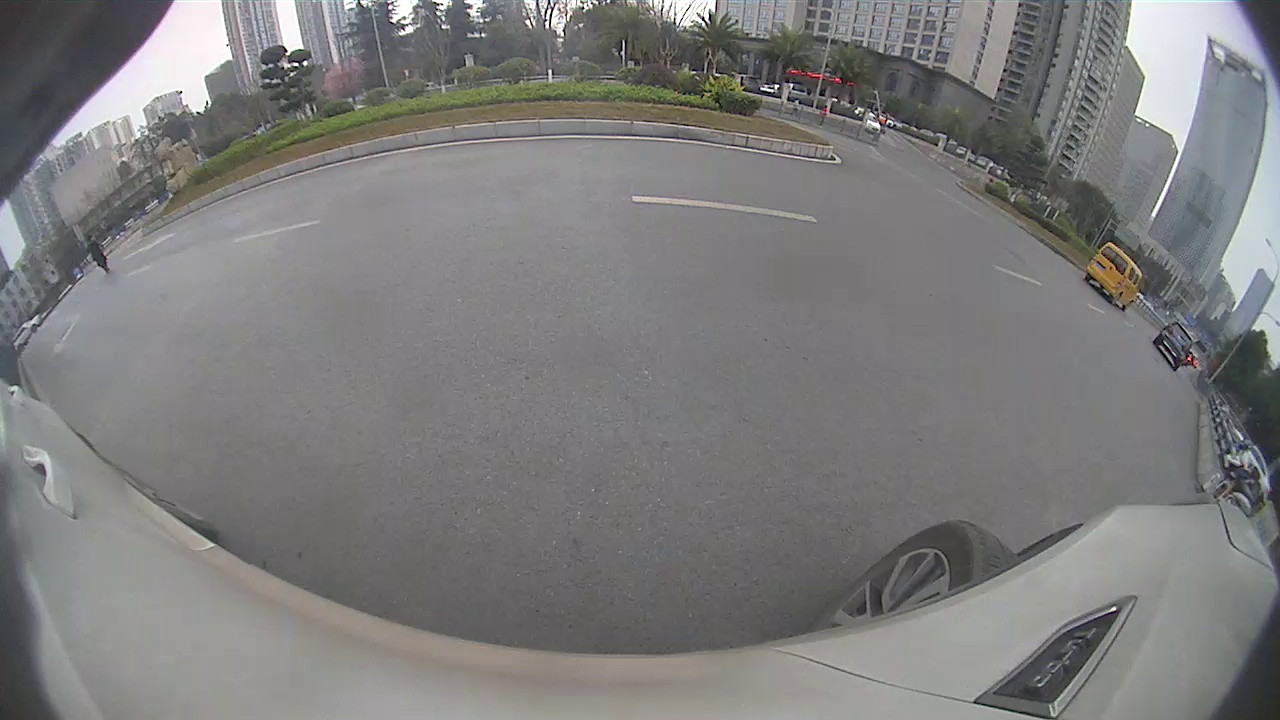car: (1085, 243, 1140, 312), (1154, 320, 1192, 371)
person: (85, 235, 109, 274)
rear: (1110, 293, 1125, 306)
